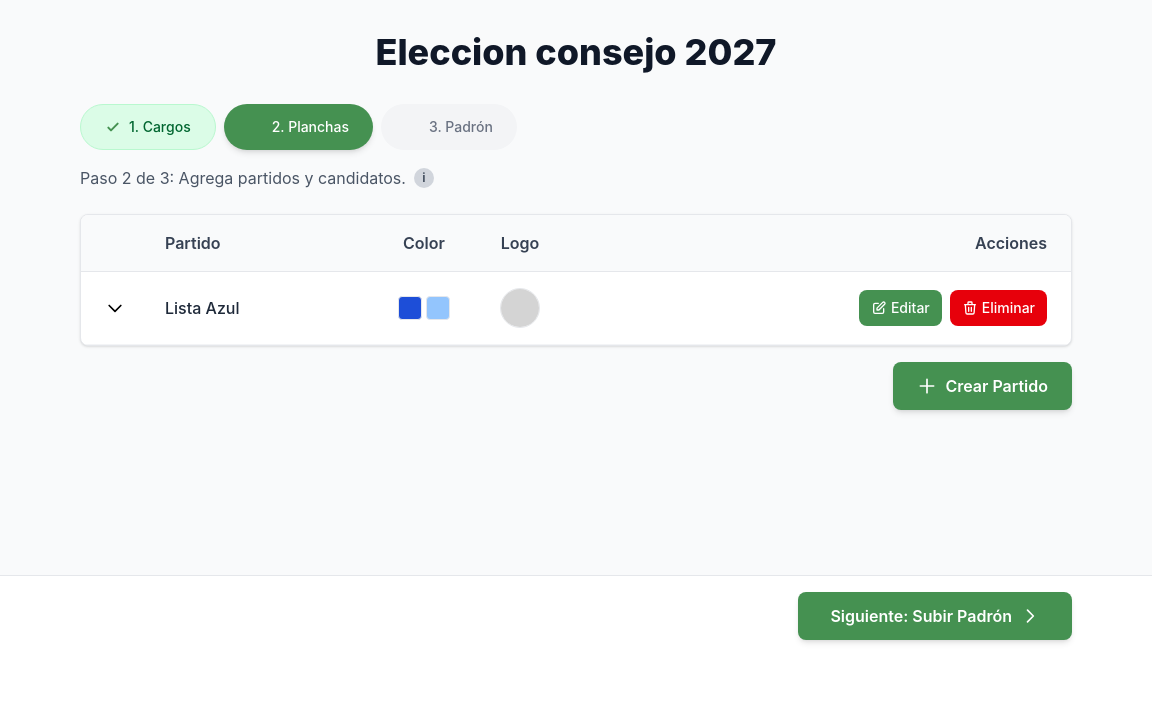
Test case: election configuration C+D flow › ELE-CAN-P0-002 muestra error al guardar candidato con cargo inválido sin cerrar modal
Click the text "Lista Azul": (202, 308) [149, 272, 376, 344]
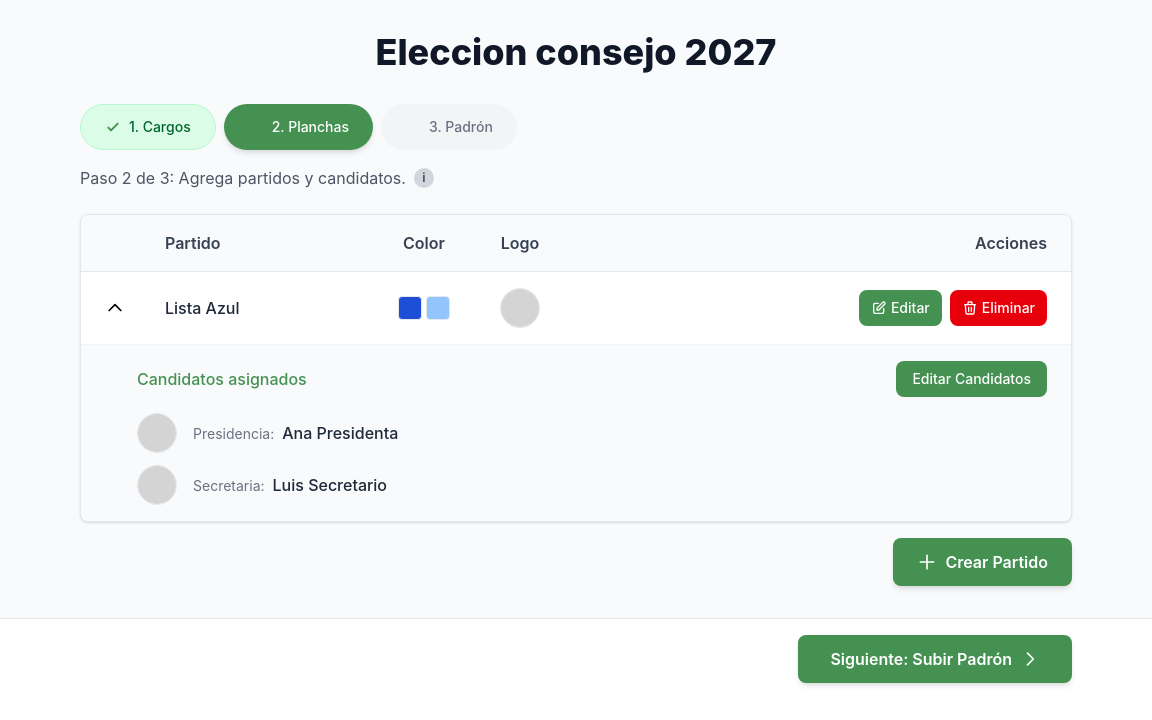
Click the button "Editar Candidatos": (972, 379) [896, 361, 1047, 397]
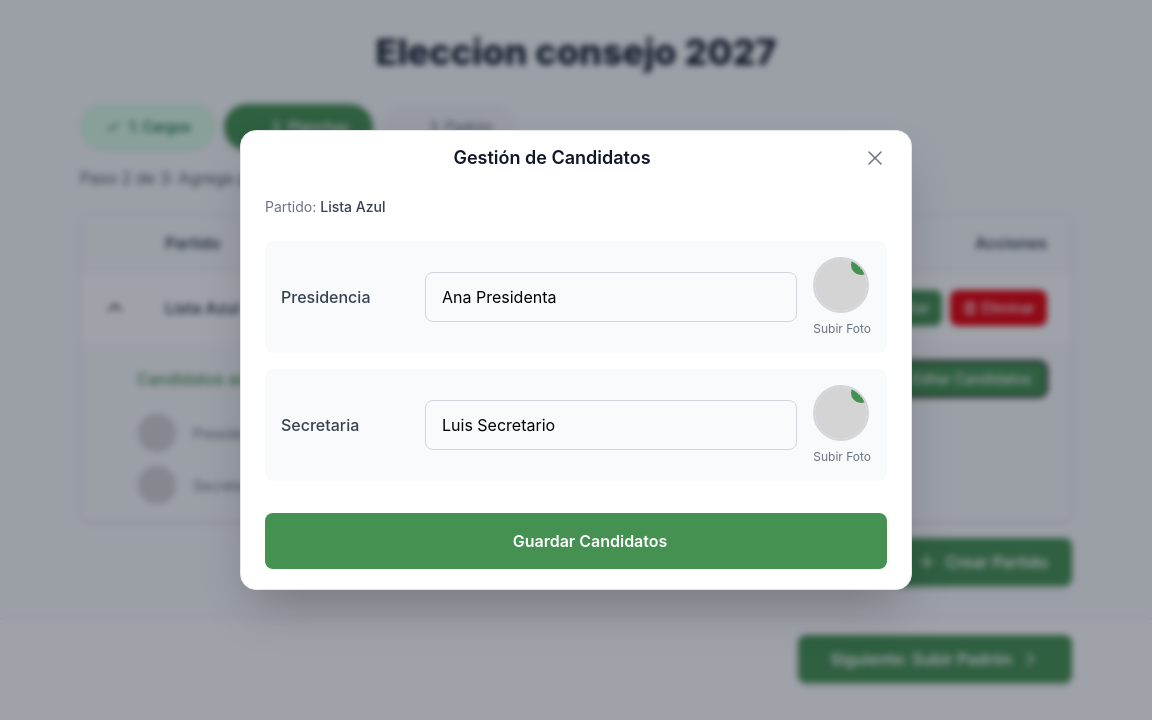
Click the button "Guardar Candidatos": (576, 541) [265, 513, 887, 569]
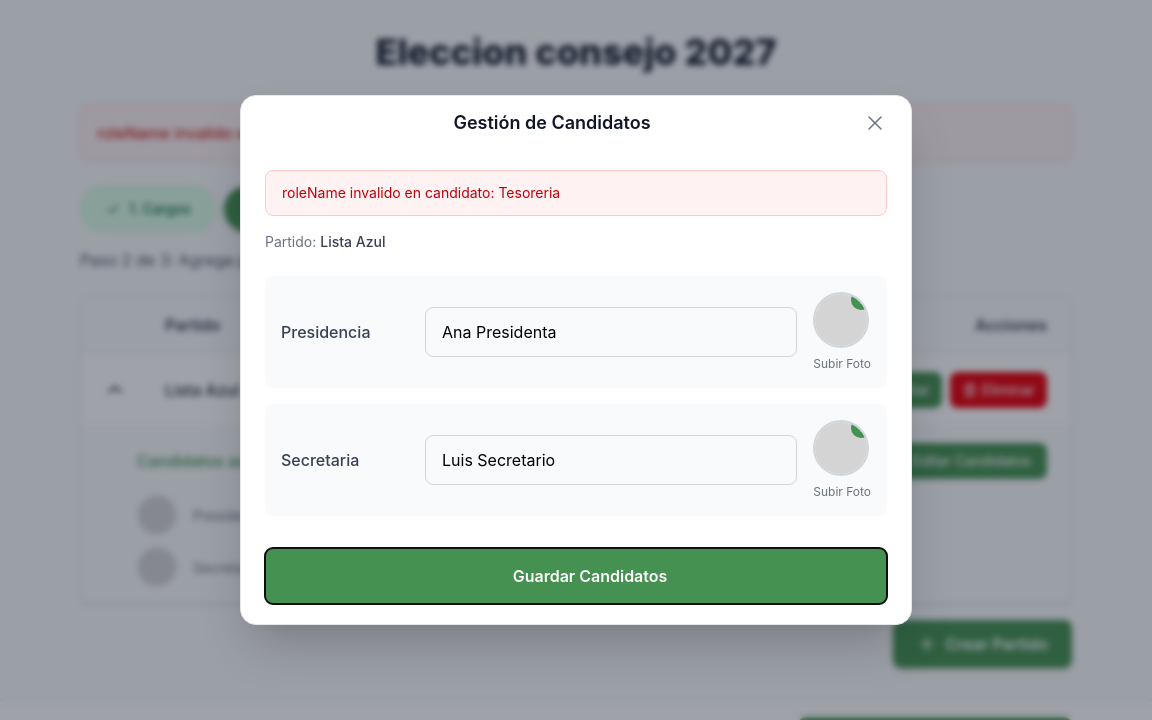
Check: the button "Guardar Candidatos" is shown, box [265, 548, 887, 604]
Check: the text "roleName invalido en candidato: Tesoreria" is shown 2 times, box [80, 104, 1072, 162]; [265, 170, 887, 216]
